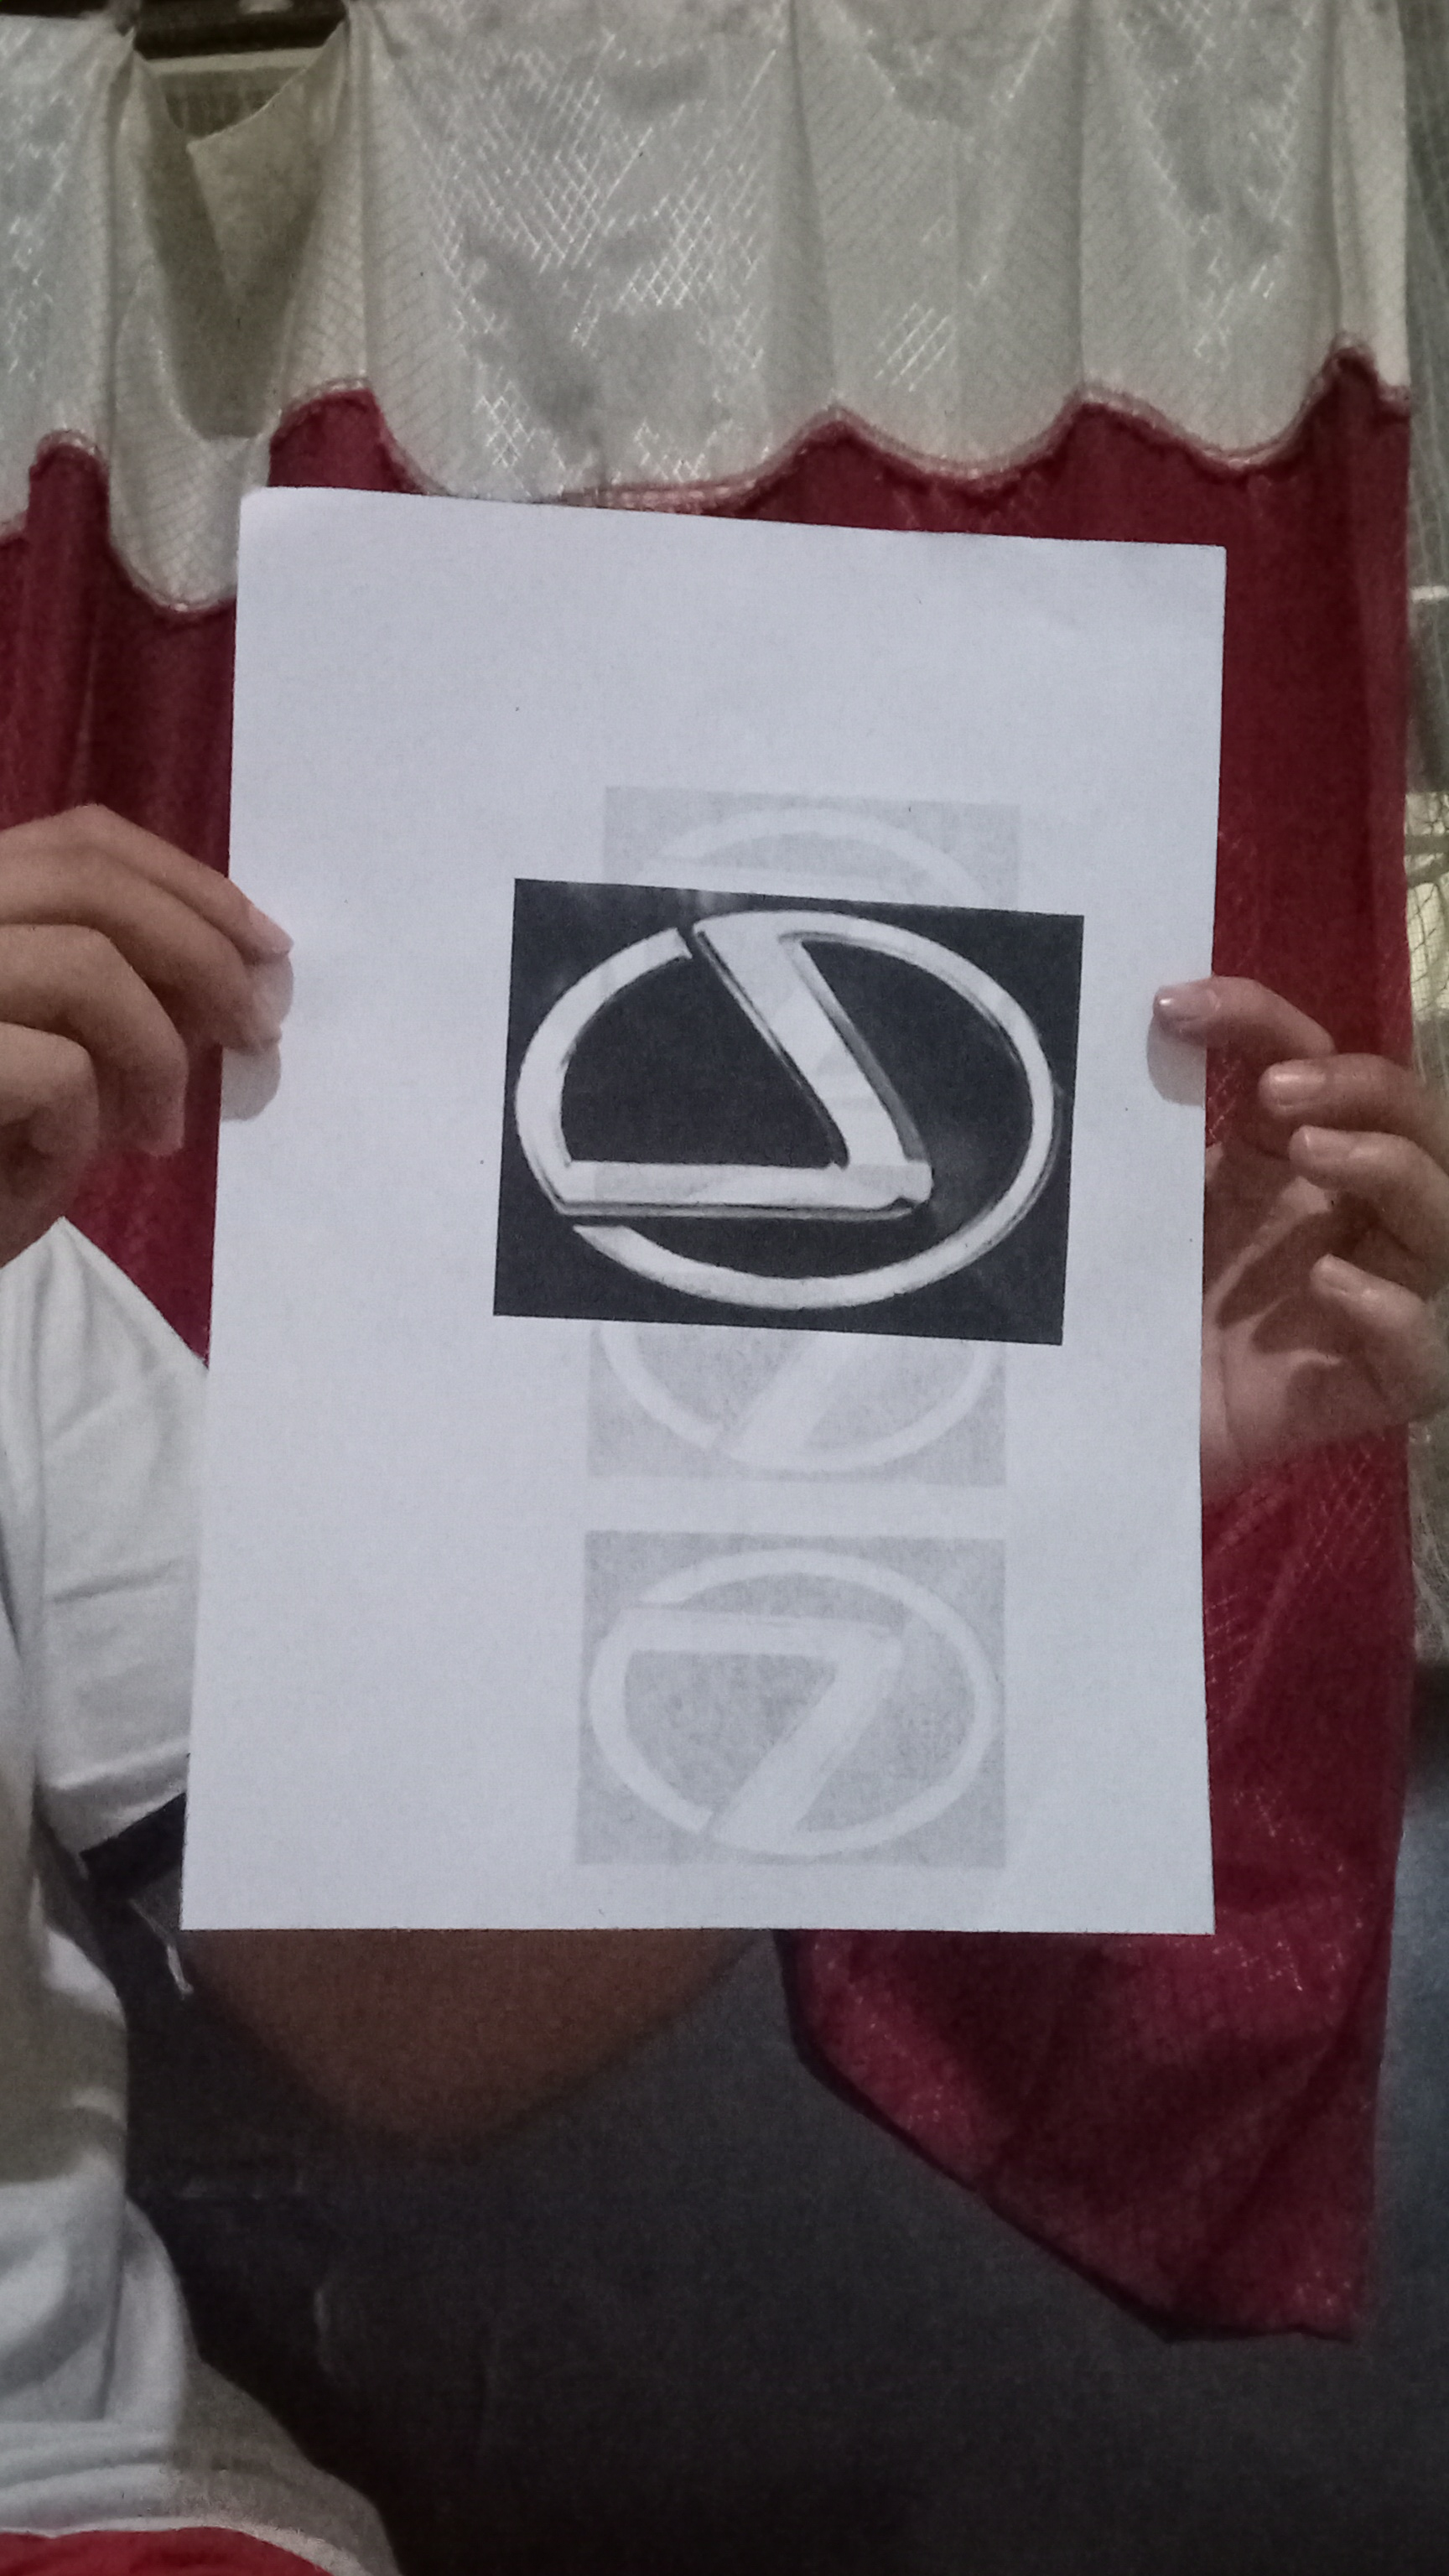Lexus: (508, 892, 1063, 1325)
